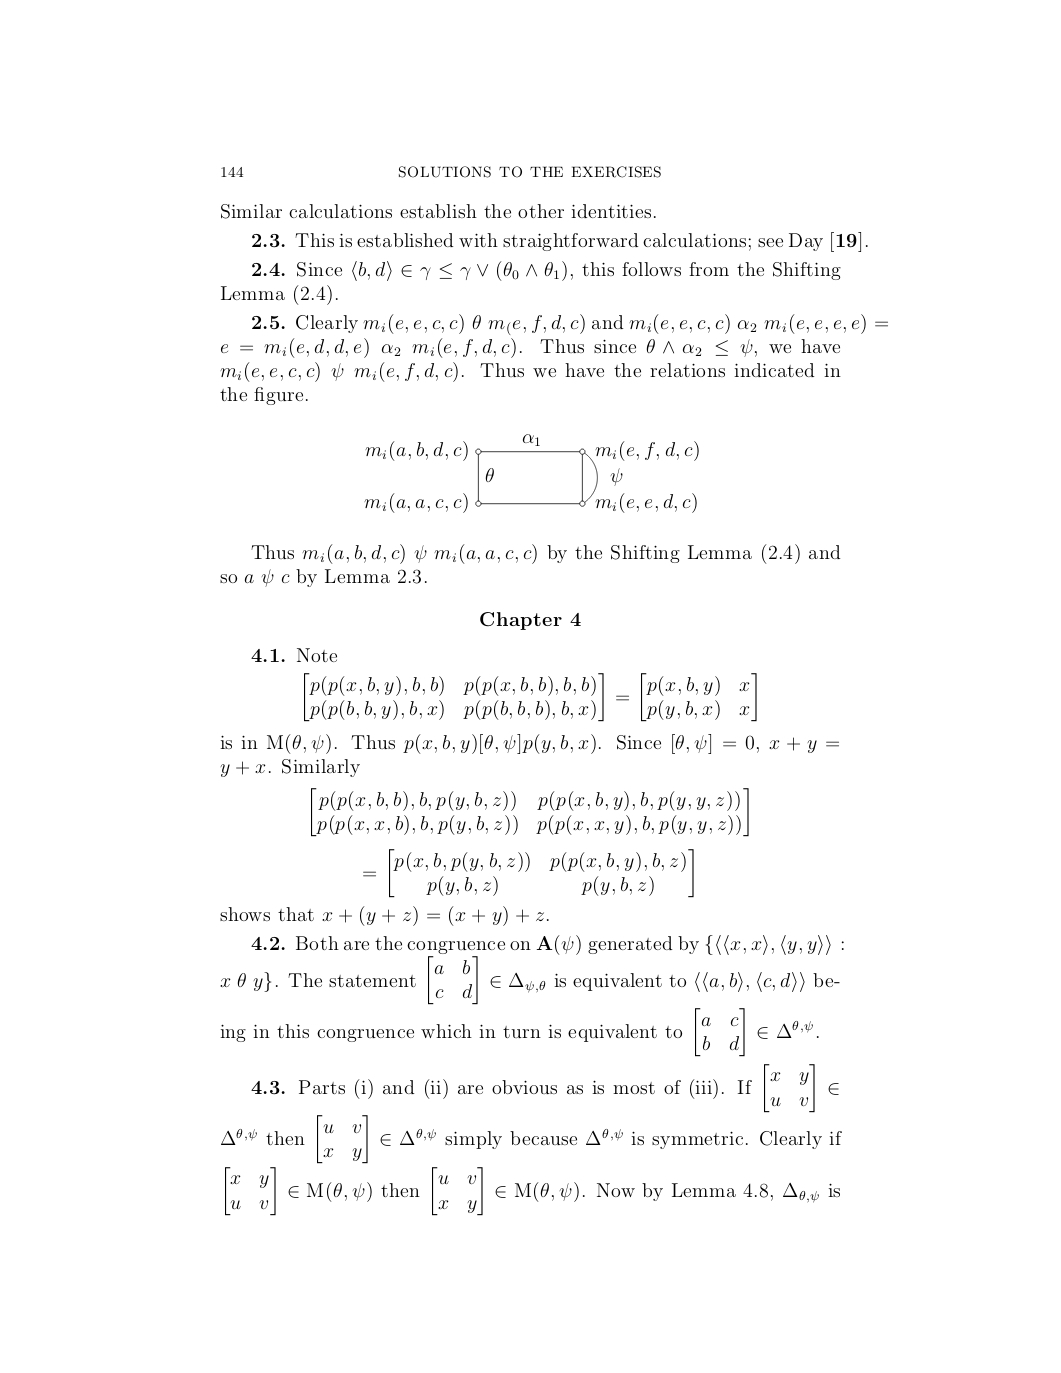figure: (364, 432, 698, 513)
formula: (304, 672, 756, 722), (311, 787, 748, 837), (363, 848, 693, 898)
